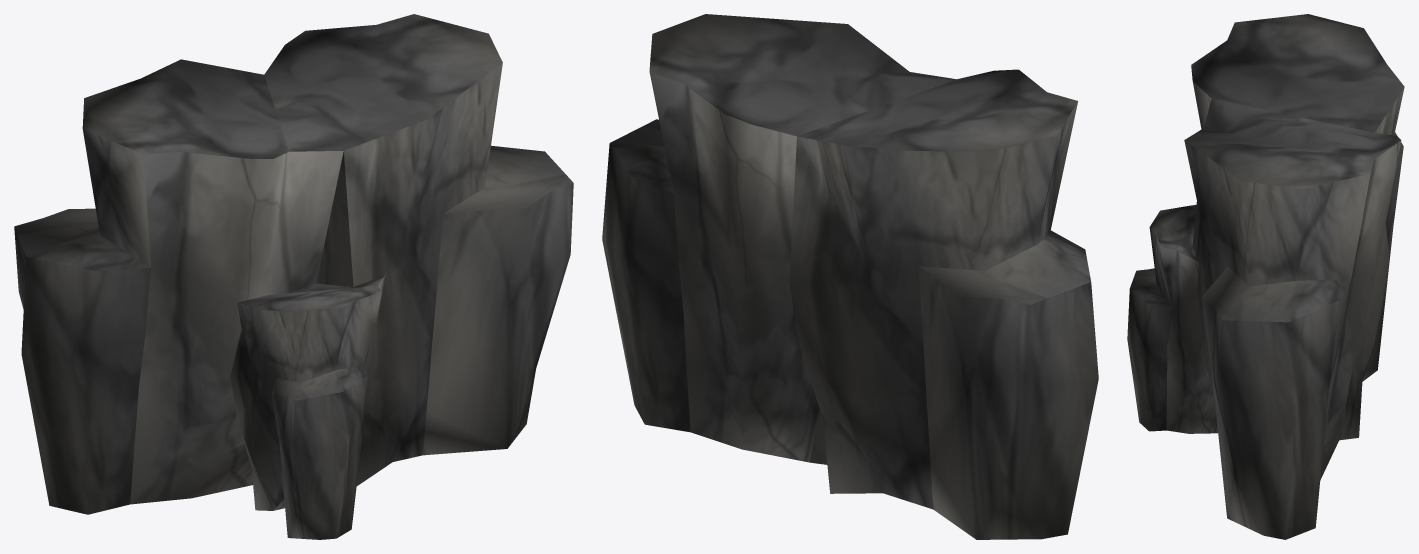
Rendered from M_gake9.fbx.
The picture shows the model from 3 angles, left to right: view 1: azimuth 30°, elevation 25°; view 2: azimuth 150°, elevation 25°; view 3: azimuth 270°, elevation 25°; orthographic projection. The views are drawn at different scales.
Visible parts, largest first — view 1: M_gake9; view 2: M_gake9; view 3: M_gake9.
Part boxes in pixels (box(x1,y1,x2,y2)): M_gake9: box(14, 14, 573, 539); M_gake9: box(602, 14, 1098, 539); M_gake9: box(1127, 14, 1404, 539).
Size of the model in its own units: 9634 by 6867 by 5091.
1 material, 1 textured.
